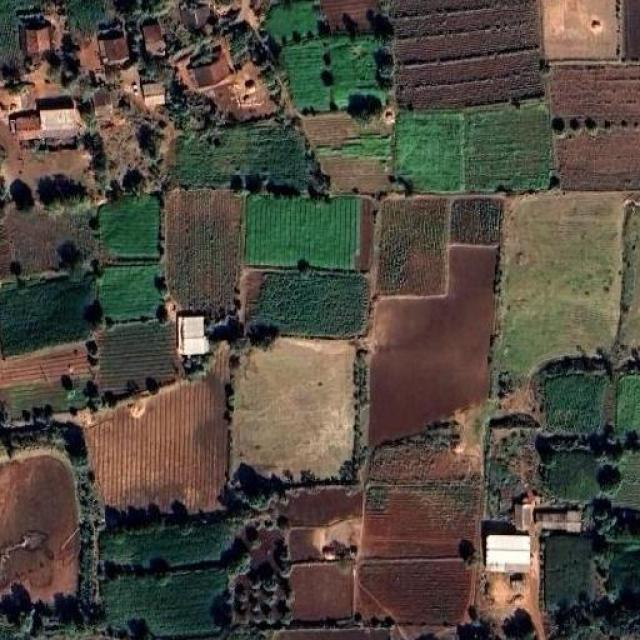land-Sx1C: (358, 406, 482, 624), (368, 244, 497, 446), (492, 192, 624, 383), (84, 342, 230, 512), (231, 338, 355, 478), (392, 0, 542, 109), (0, 451, 78, 601), (164, 190, 244, 317), (172, 119, 309, 191), (361, 484, 480, 558), (246, 195, 364, 269), (0, 275, 104, 356), (101, 569, 226, 636), (215, 521, 290, 627), (281, 35, 384, 111), (252, 270, 368, 337), (465, 102, 551, 191), (356, 559, 471, 624), (0, 122, 97, 198), (0, 341, 91, 421), (0, 206, 99, 278), (376, 200, 449, 296), (101, 520, 234, 566), (394, 112, 464, 192), (549, 64, 640, 124), (98, 324, 179, 391), (554, 129, 640, 191), (541, 0, 618, 60), (0, 342, 90, 388), (542, 532, 594, 611), (615, 200, 640, 356), (98, 264, 164, 322), (544, 374, 608, 432), (598, 529, 640, 617), (100, 195, 158, 258), (289, 564, 352, 621), (280, 485, 362, 526), (301, 112, 391, 148), (542, 452, 600, 499), (318, 157, 391, 193), (450, 200, 502, 244), (239, 268, 281, 322), (265, 0, 319, 42), (319, 0, 379, 33), (611, 451, 640, 509), (354, 198, 374, 272), (270, 628, 391, 639), (618, 374, 640, 434), (289, 526, 324, 562), (622, 0, 640, 60)
